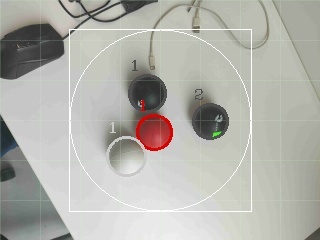Pelota blanca: (273, 0, 320, 99), (215, 0, 270, 51), (107, 135, 146, 178)
Pelota negra: (0, 21, 64, 81), (127, 73, 169, 112), (191, 103, 230, 141)
Pelota roja: (135, 113, 175, 153)
